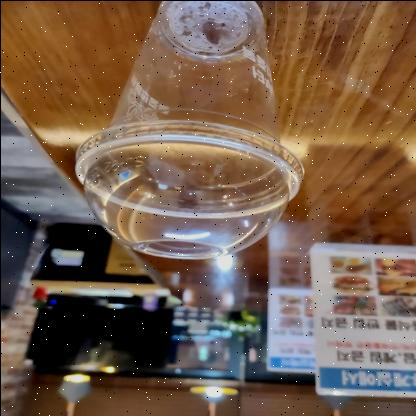Others: (72, 0, 304, 266)
